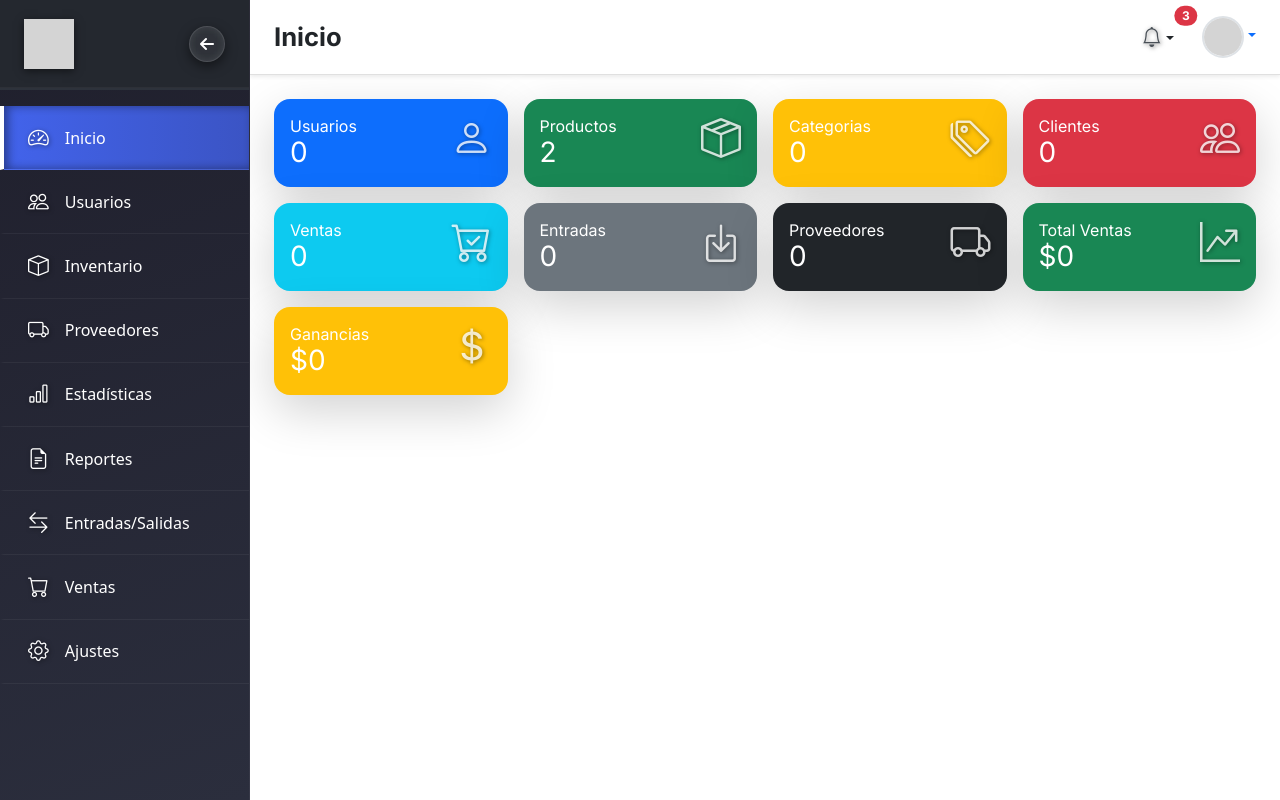
Test: Gestión de Productos › debe filtrar productos por búsqueda
Click the text "Inventario".
click(104, 266)  # box [65,254,143,278]
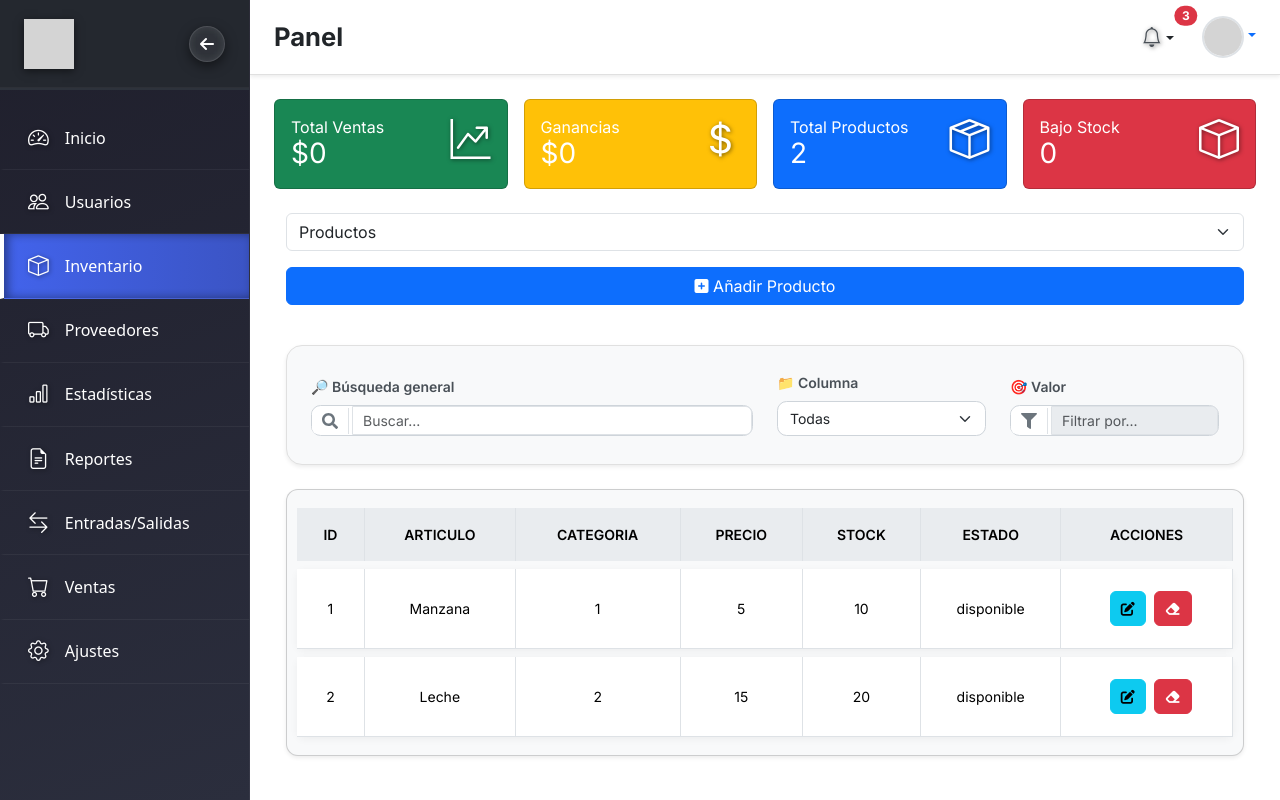
Type "Manzana" into the field with placeholder "Buscar...".
click(552, 421); type("Manzana")  # box [352,406,752,435]
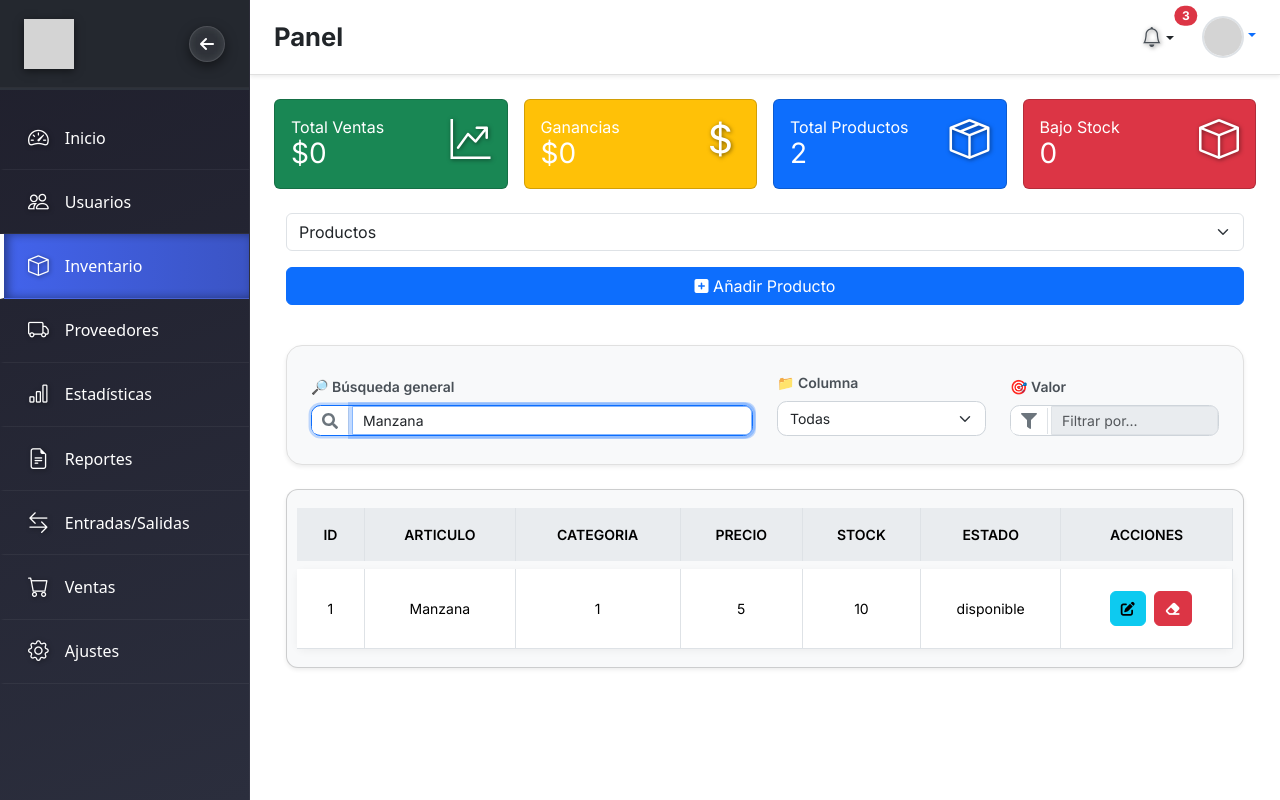
Check: the text "Manzana" is shown, box [365,569,516,649]
Check: the text "Leche" is gone
